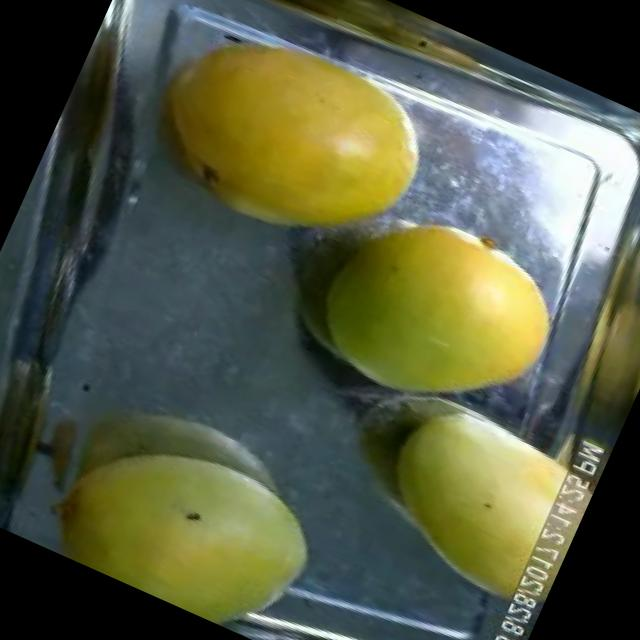fruit: (108, 0, 458, 294), (24, 376, 366, 640), (283, 172, 586, 454), (340, 370, 580, 620)
